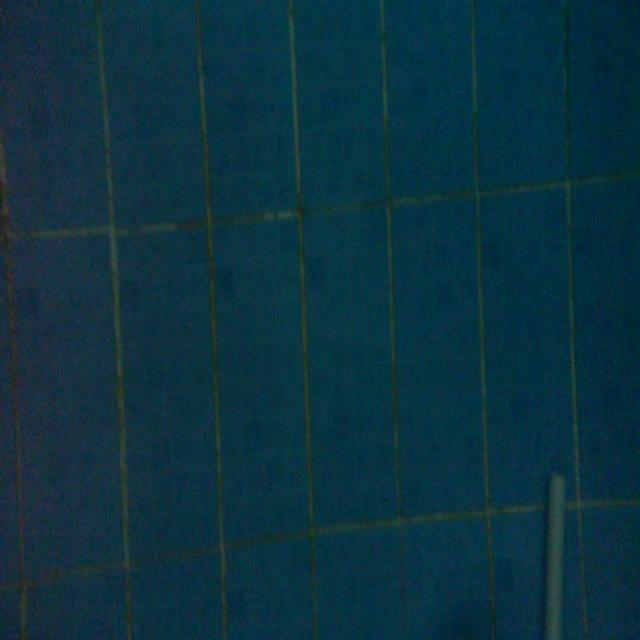Cube: (541, 466, 567, 636)
